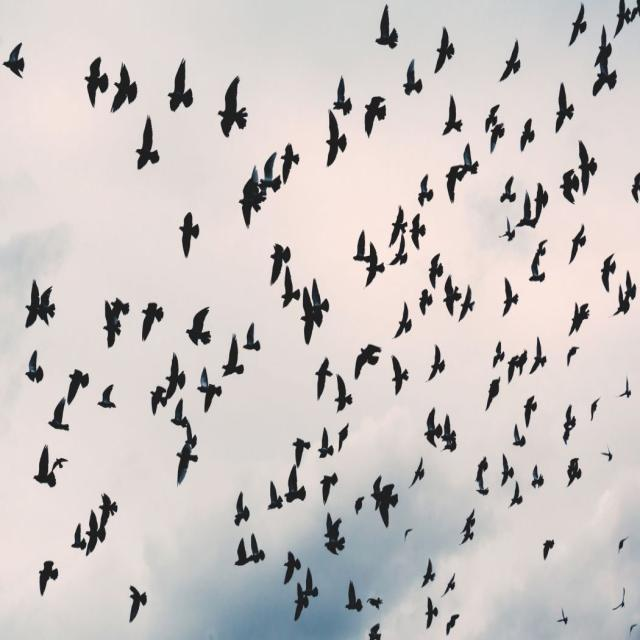bird: (220, 76, 248, 140), (240, 162, 260, 230), (139, 116, 162, 170), (172, 58, 195, 112), (175, 435, 201, 482), (30, 284, 58, 327), (198, 364, 221, 415), (577, 140, 598, 195), (86, 58, 110, 105), (116, 62, 140, 107), (299, 286, 317, 344), (300, 566, 320, 618), (187, 306, 212, 346), (372, 476, 392, 526), (292, 575, 312, 625), (269, 243, 292, 284), (558, 85, 578, 132), (220, 335, 242, 377), (4, 42, 28, 80), (86, 510, 105, 558), (180, 212, 201, 255), (379, 6, 400, 48), (261, 152, 282, 194), (144, 302, 166, 342), (366, 98, 388, 138), (284, 466, 306, 506), (503, 36, 522, 82), (105, 304, 125, 347), (34, 450, 56, 489), (66, 369, 90, 404), (356, 344, 382, 376), (436, 28, 455, 70), (443, 277, 461, 320), (128, 586, 148, 624), (446, 95, 464, 137), (336, 374, 354, 416), (594, 66, 618, 97), (392, 355, 411, 394), (572, 1, 588, 47), (150, 383, 172, 416), (335, 76, 353, 116), (570, 222, 588, 262), (315, 357, 331, 402), (168, 353, 186, 393), (326, 134, 346, 170), (535, 182, 551, 226), (562, 170, 581, 207), (403, 60, 422, 97), (312, 279, 329, 320), (430, 346, 448, 384), (40, 560, 58, 598), (282, 144, 300, 182), (248, 532, 268, 566), (502, 275, 518, 317), (388, 238, 409, 270), (366, 255, 385, 290), (234, 536, 254, 569), (602, 251, 618, 292), (624, 270, 640, 311), (345, 580, 363, 616), (25, 352, 44, 386), (318, 472, 337, 506), (285, 548, 304, 582), (172, 398, 191, 432), (281, 267, 296, 310), (48, 401, 68, 433), (425, 407, 441, 447), (572, 301, 590, 336), (354, 230, 372, 265), (523, 392, 540, 429), (410, 212, 427, 248), (317, 427, 334, 463), (398, 301, 414, 339), (322, 512, 341, 544), (98, 494, 118, 524), (520, 186, 535, 226), (598, 24, 615, 59), (489, 117, 506, 152), (268, 479, 286, 512), (520, 116, 536, 153), (446, 169, 462, 206), (234, 492, 250, 528), (461, 509, 477, 545), (393, 207, 409, 243), (291, 436, 310, 466), (534, 337, 549, 374), (443, 413, 457, 452), (417, 175, 433, 209), (430, 254, 446, 288), (462, 285, 477, 321), (425, 594, 440, 630), (462, 145, 479, 176), (419, 284, 435, 316), (501, 176, 518, 206), (487, 378, 502, 412), (620, 0, 637, 30), (322, 534, 344, 557), (336, 422, 352, 453), (568, 454, 583, 487), (96, 386, 115, 412), (245, 322, 261, 352), (508, 352, 524, 382), (499, 450, 513, 484), (564, 402, 578, 436), (530, 257, 546, 286), (71, 522, 87, 550), (412, 457, 427, 486), (422, 560, 436, 590), (510, 482, 524, 512), (492, 339, 505, 371), (477, 466, 490, 498), (532, 463, 546, 491), (445, 612, 460, 637), (503, 220, 519, 243), (512, 425, 527, 449), (630, 173, 640, 208), (476, 458, 490, 482), (486, 104, 501, 126), (536, 238, 550, 260), (614, 588, 628, 610), (352, 496, 366, 518), (444, 574, 457, 597), (367, 623, 384, 640), (567, 346, 581, 366), (543, 539, 555, 562), (622, 378, 634, 400), (589, 398, 600, 421), (368, 595, 384, 610), (617, 537, 629, 554), (558, 609, 570, 626), (626, 622, 638, 636), (600, 450, 613, 462), (402, 526, 413, 540)
